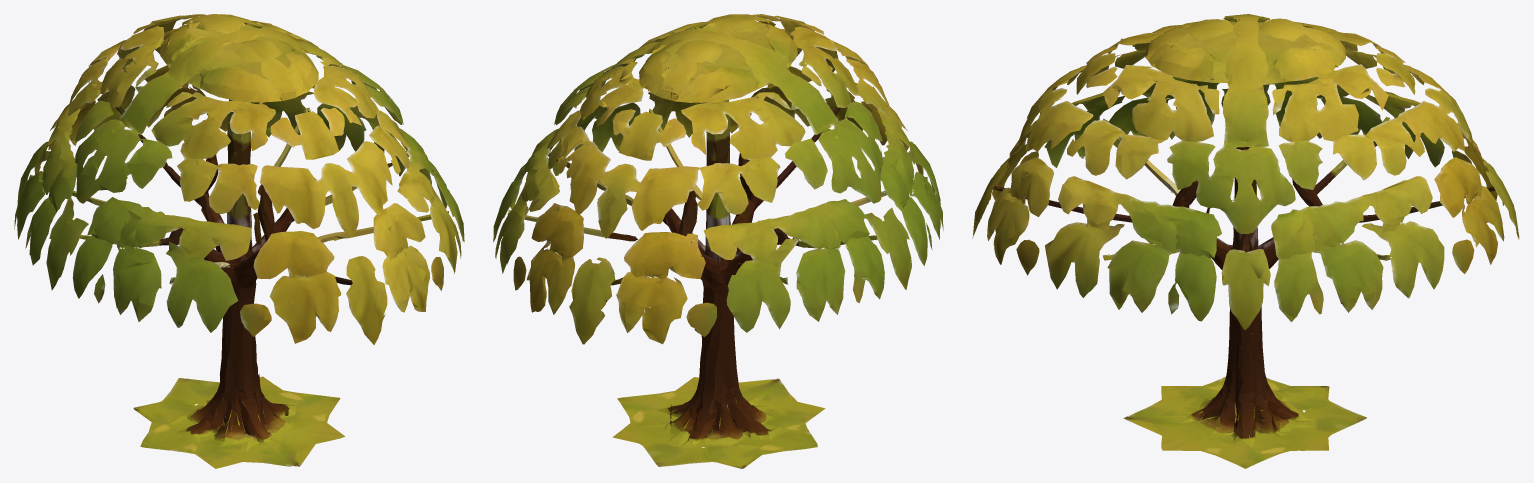
The model's file is Jungle_GoldTree.glb.
The picture shows the model from 3 angles, left to right: view 1: azimuth 30°, elevation 25°; view 2: azimuth 150°, elevation 25°; view 3: azimuth 270°, elevation 25°; orthographic projection.
Visible parts, largest first — view 1: GoldTree_Body; view 2: GoldTree_Body; view 3: GoldTree_Body.
Part boxes in pixels (x1,y1,x2,y2): GoldTree_Body: (14, 14, 464, 468); GoldTree_Body: (493, 14, 943, 468); GoldTree_Body: (972, 14, 1519, 468).
Size of the model in its own units: 3.12 by 3.11 by 3.89.
1 material, 1 textured.
